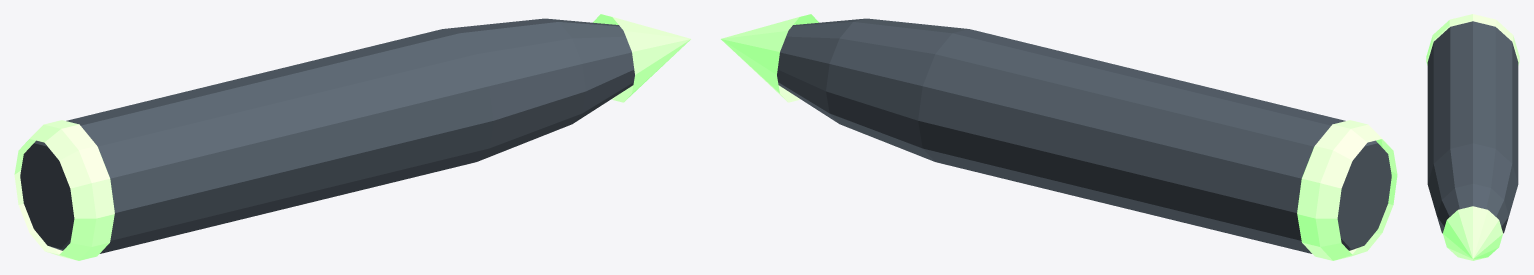
The model's file is green.glb.
The picture shows the model from 3 angles, left to right: view 1: azimuth 30°, elevation 25°; view 2: azimuth 150°, elevation 25°; view 3: azimuth 270°, elevation 25°; orthographic projection. The views are drawn at different scales.
Visible parts, largest first — view 1: Projectile / tapered copper-alloy jacket.001, Projectile / rear tracer compound.001, Projectile / luminous nose.001; view 2: Projectile / tapered copper-alloy jacket.001, Projectile / rear tracer compound.001, Projectile / luminous nose.001; view 3: Projectile / tapered copper-alloy jacket.001, Projectile / luminous nose.001, Projectile / rear tracer compound.001.
Boxes of the visible parts, x1,y1,x2,y2 form: Projectile / tapered copper-alloy jacket.001: (20, 18, 634, 253); Projectile / rear tracer compound.001: (14, 120, 114, 260); Projectile / luminous nose.001: (593, 14, 690, 102); Projectile / tapered copper-alloy jacket.001: (777, 18, 1391, 253); Projectile / rear tracer compound.001: (1297, 120, 1397, 260); Projectile / luminous nose.001: (721, 14, 818, 102); Projectile / tapered copper-alloy jacket.001: (1427, 21, 1518, 233); Projectile / luminous nose.001: (1442, 206, 1503, 260); Projectile / rear tracer compound.001: (1426, 14, 1519, 65).
Size of the model in its own units: 0.424 by 0.08 by 0.08.
